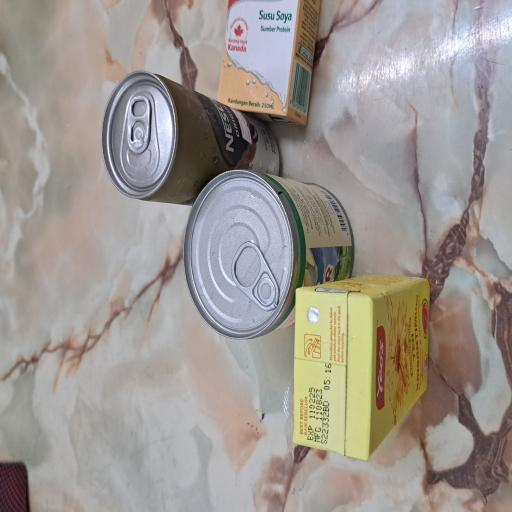can: (129, 241, 258, 472), (231, 132, 330, 378)
drink carton: (38, 390, 180, 512), (292, 287, 384, 429)
pop tab: (151, 311, 204, 374), (268, 164, 313, 202)
